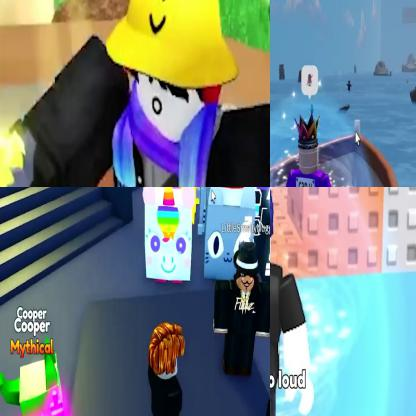Roblox-Avatar: (10, 1, 270, 187), (271, 188, 316, 416), (213, 242, 270, 378), (285, 105, 347, 187), (148, 322, 196, 416)
